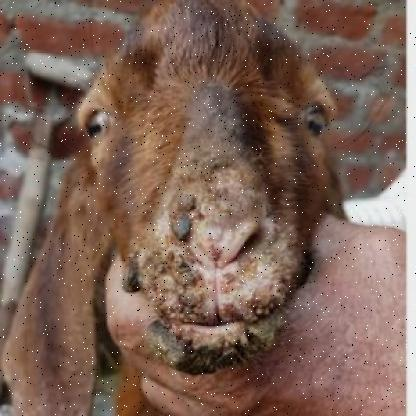ppr: (122, 194, 307, 368)
